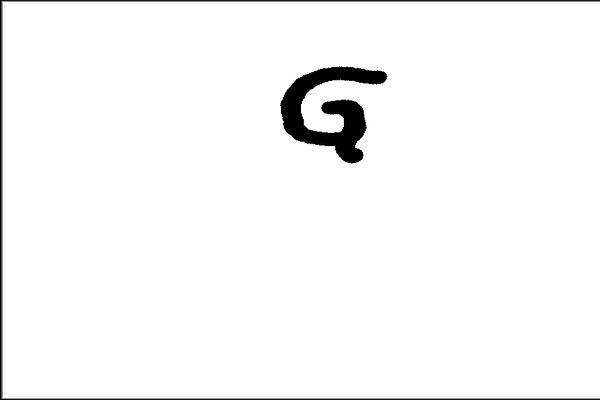G: (275, 62, 389, 167)
